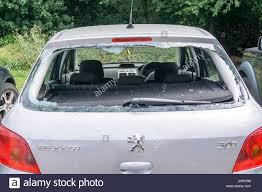Rear-windscreen-Damage: (32, 41, 242, 116)
